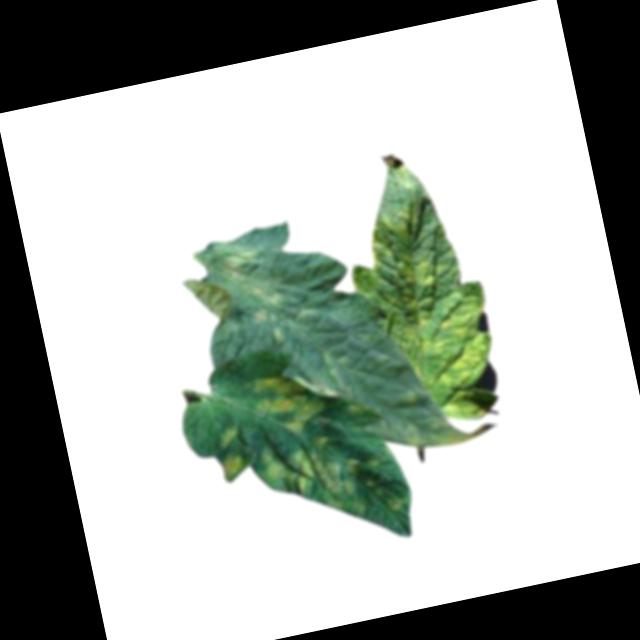Leaf_Mold: (327, 140, 510, 439), (255, 428, 368, 520), (214, 233, 292, 353), (245, 364, 331, 444), (218, 452, 248, 484), (216, 424, 243, 449)
